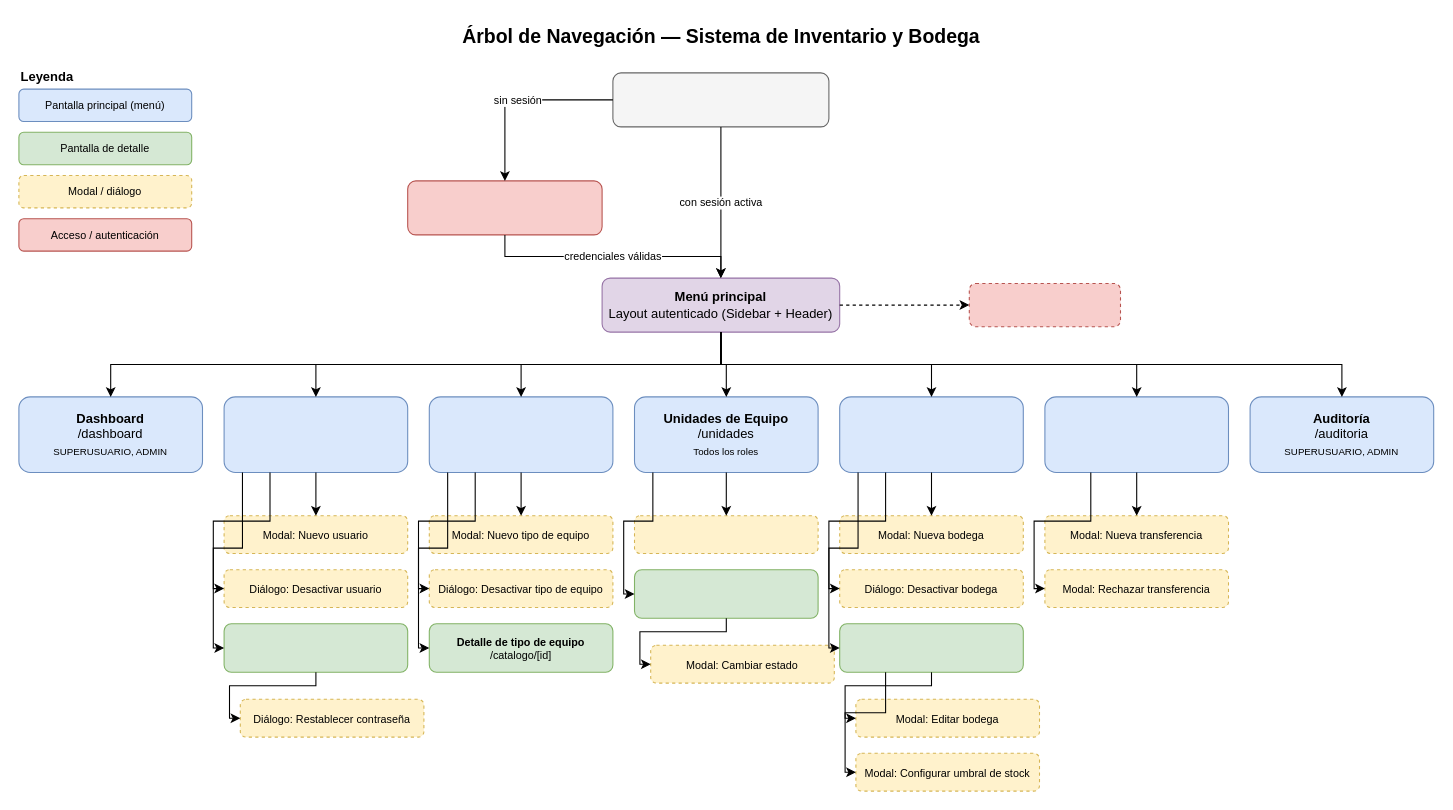
This 1453x810 diagram has some shape labels left out. Each missing label, with the box of its shape:
Bodegas /bodegas SUPERUSUARIO, ADMIN, ADMIN_BODEGA: (839, 396, 1023, 473)
Catálogo de Equipos /catalogo SUPERUSUARIO, ADMIN, ADMIN_BODEGA: (428, 396, 613, 473)
Cerrar sesión (vuelve a /login): (968, 282, 1120, 327)
Detalle de bodega /bodegas/[id]: (839, 623, 1023, 672)
Detalle de unidad /unidades/[id]: (633, 569, 818, 618)
Detalle de usuario /usuarios/[id]: (223, 623, 408, 672)
Inicio de sesión /login: (407, 180, 602, 235)
Modal: Registrar unidad: (633, 515, 818, 554)
Raíz / (redirección según sesión): (612, 72, 829, 127)
Transferencias /transferencias SUPERUSUARIO, ADMIN: (1044, 396, 1228, 473)
Usuarios /usuarios SUPERUSUARIO, ADMIN: (223, 396, 408, 473)
